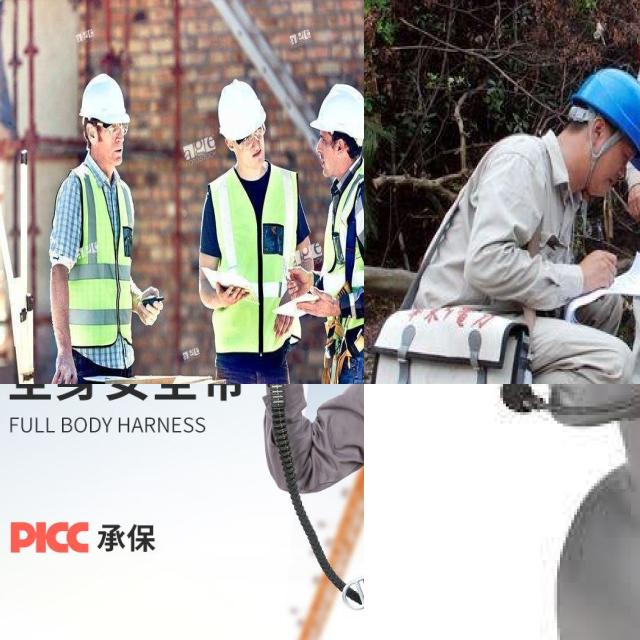No_Ear-Protection: (587, 112, 608, 148)
face_nomask: (585, 121, 637, 198), (93, 119, 126, 167), (235, 126, 270, 168), (313, 130, 338, 174)
glasses: (235, 119, 266, 150), (97, 119, 129, 138)
hand_noglove: (583, 249, 624, 294), (299, 286, 339, 320), (47, 345, 81, 384), (284, 260, 316, 300), (215, 276, 251, 310), (134, 290, 164, 329), (272, 299, 294, 338), (621, 181, 640, 224)
head_helmet: (584, 67, 640, 137), (308, 80, 364, 138), (214, 80, 270, 134), (75, 74, 132, 124)
person: (475, 67, 640, 384), (210, 79, 304, 384), (61, 77, 134, 384), (310, 81, 364, 384)
vest: (217, 171, 292, 339), (64, 173, 130, 349), (324, 183, 364, 325)
